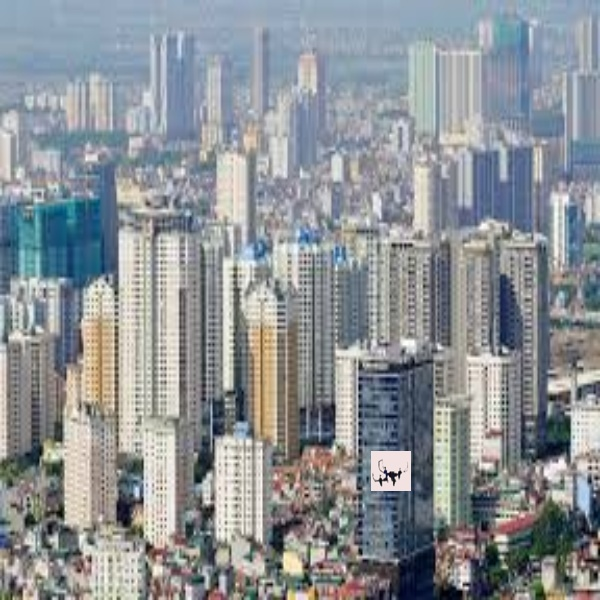drone: (369, 454, 409, 489)
